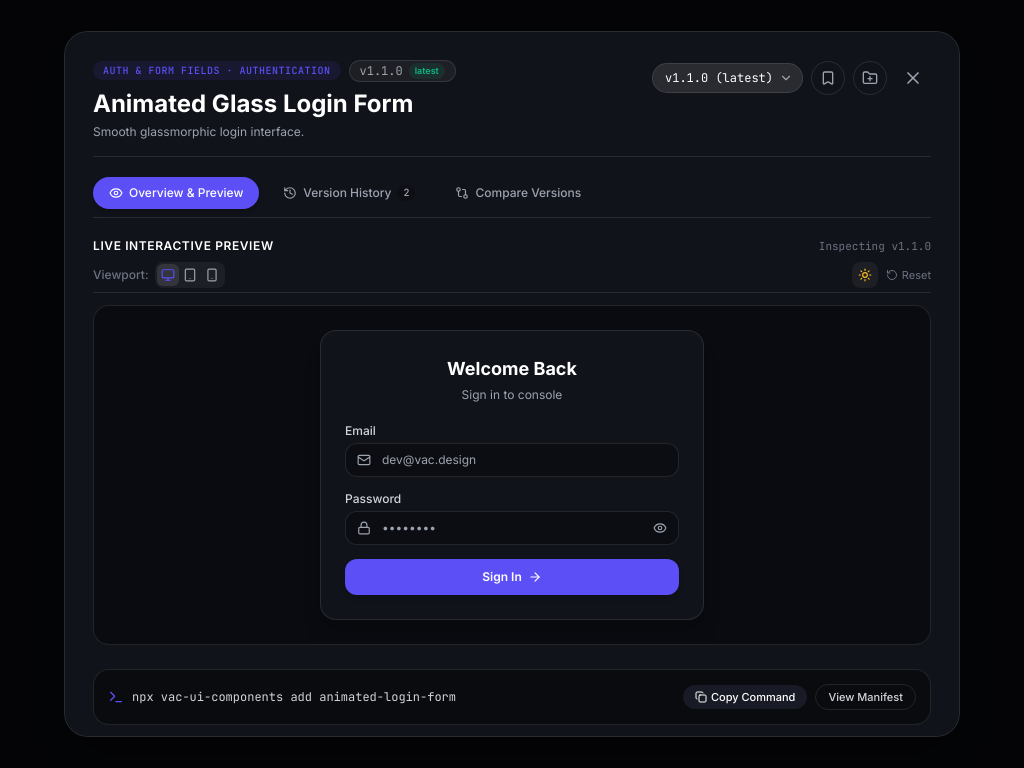
Test: Phase 5 Component Version Management & Comparison Frontend Tests › switches to Compare Versions tab and displays file, dependency, and prop diffs
Expected: the text "latest" is shown, [409,63,445,79]
Click the button "Compare Versions". click: (518, 193)
box: [439,177,597,209]
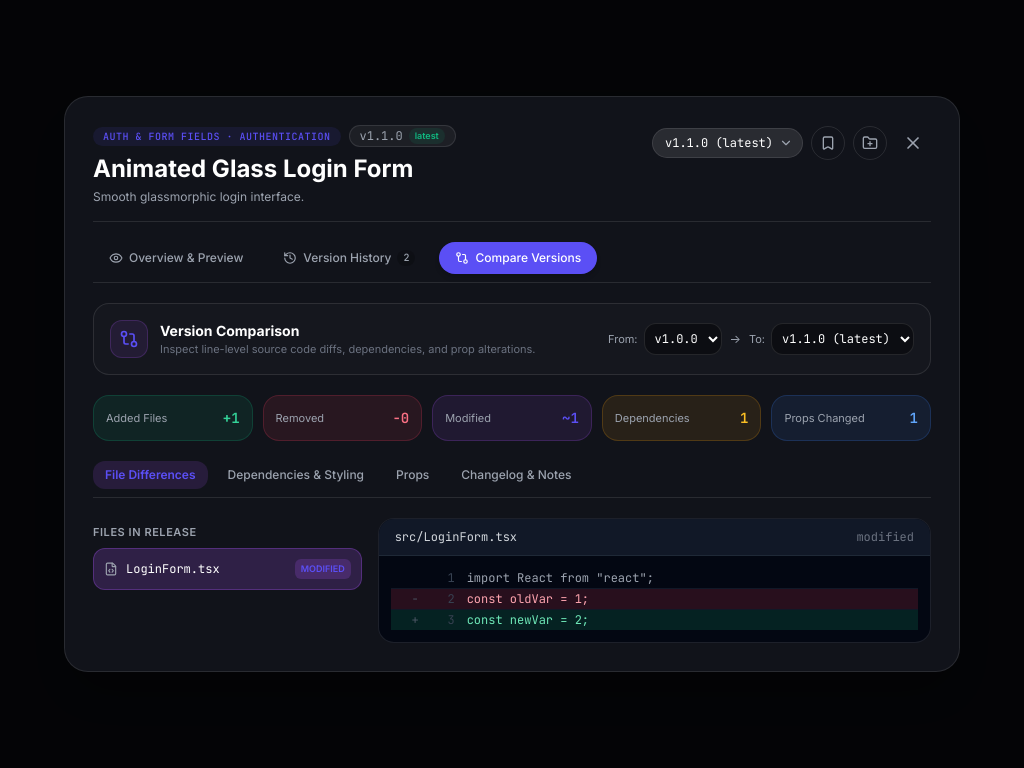
Result: the heading "Version Comparison" is shown at [160,322,299,339]
Result: the button "File Differences" is shown at [93,461,208,489]
